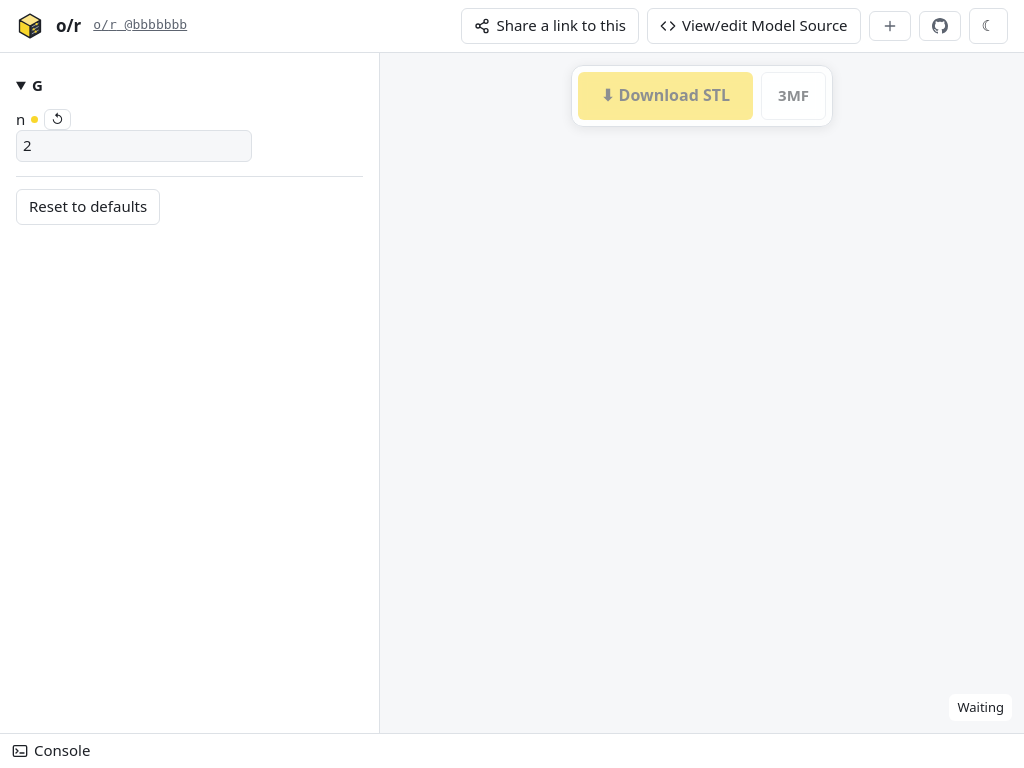
App › model view › share panel › explains the link and updates it as options change
The width and height of the screenshot is (1024, 768).
What coordinates should you click on to do the following:
click the button with test id "share-link"
I would click on:
 (550, 26)
Its box is [462,8,639,44].
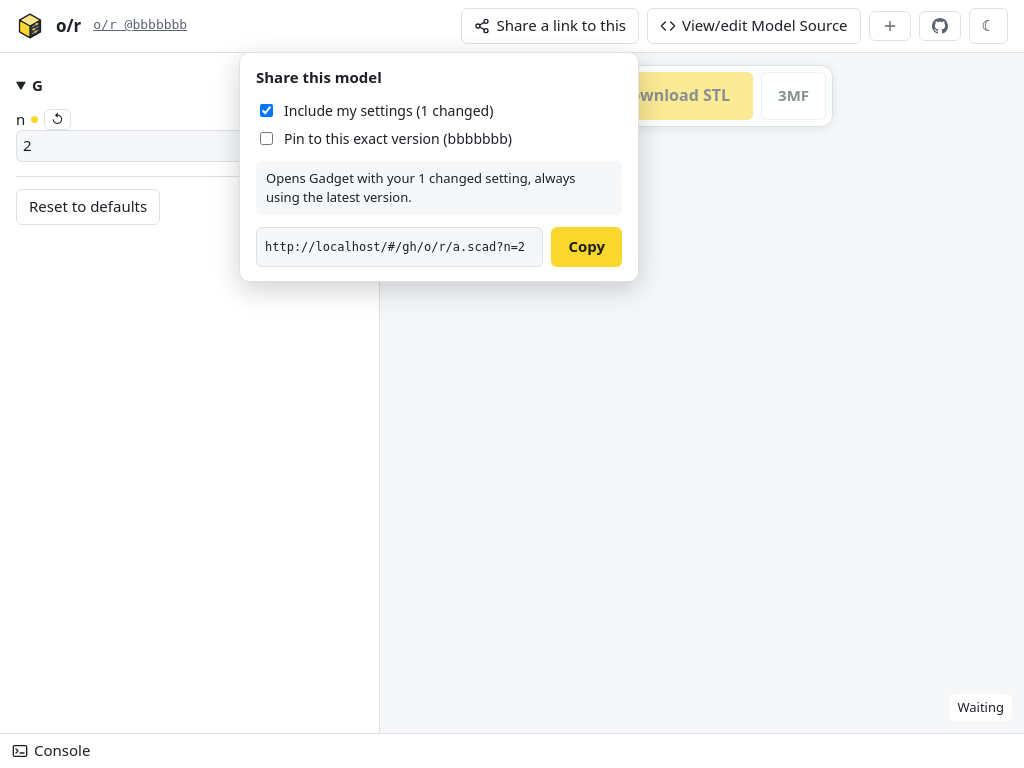
Check: the dialog "Share this model" is shown, box [239,52,639,282]
Check: the text with test id "share-summary" reads "Opens Gadget with your 1 changed setting, always using the latest version.", box [266,169,576,206]
What coordinates should you click on to do the following:
click the checkbox labelled "Pin to this exact version (bbbbbbb)"
I would click on:
 (266, 139)
Its box is [260,132,273,145].
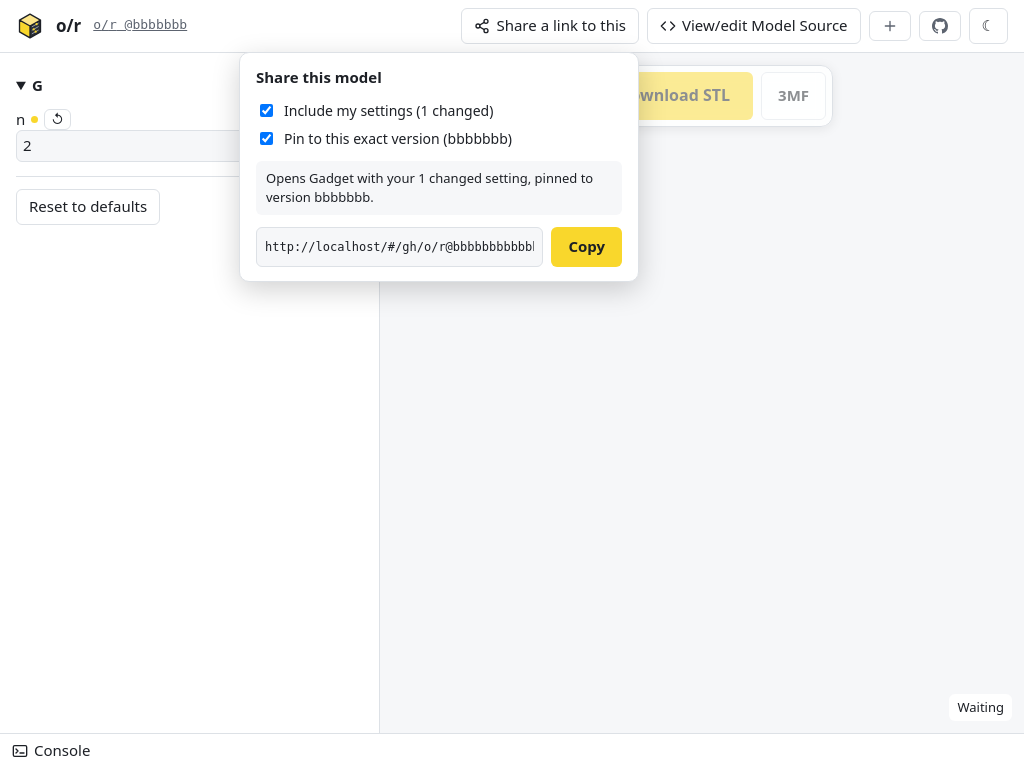
What coordinates should you click on to do the following:
click the checkbox labelled "Include my settings (1 changed)"
I would click on:
 (266, 111)
Its box is [260,104,273,117].
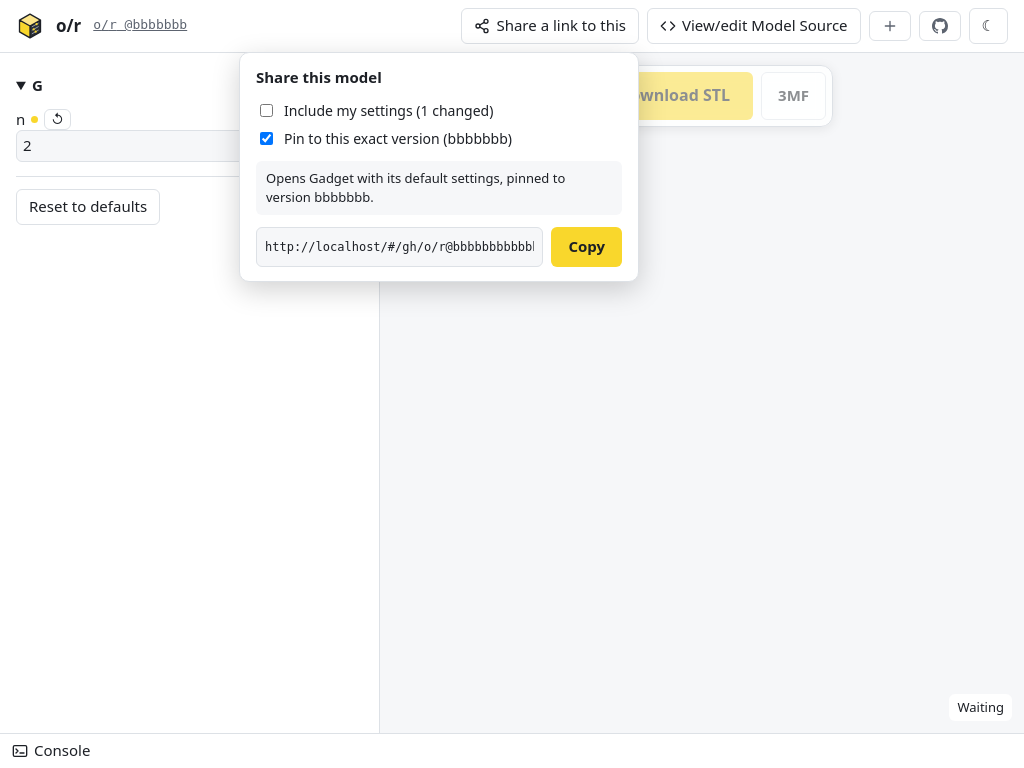
Check: the text with test id "share-summary" reads "Opens Gadget with its default settings, pinned to version bbbbbbb.", box [266,169,565,206]
